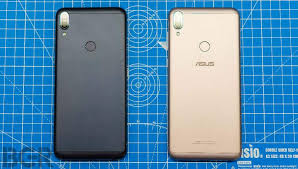asus: (164, 6, 245, 164), (53, 4, 129, 162)
